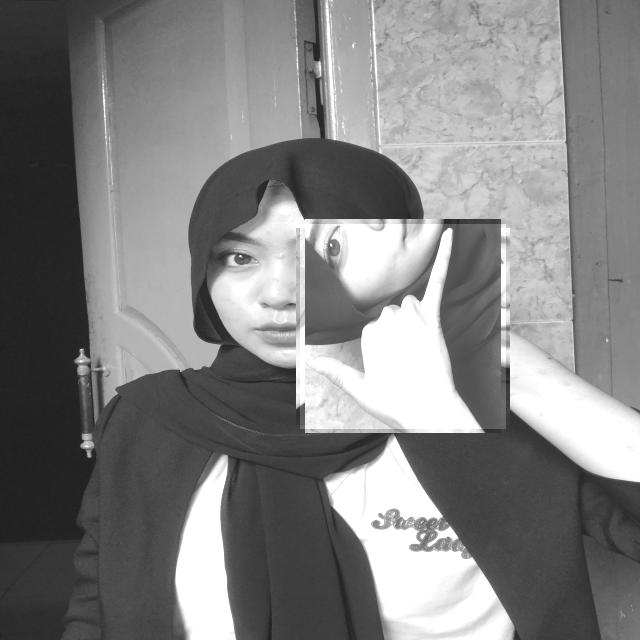telpon: (300, 224, 506, 429)
